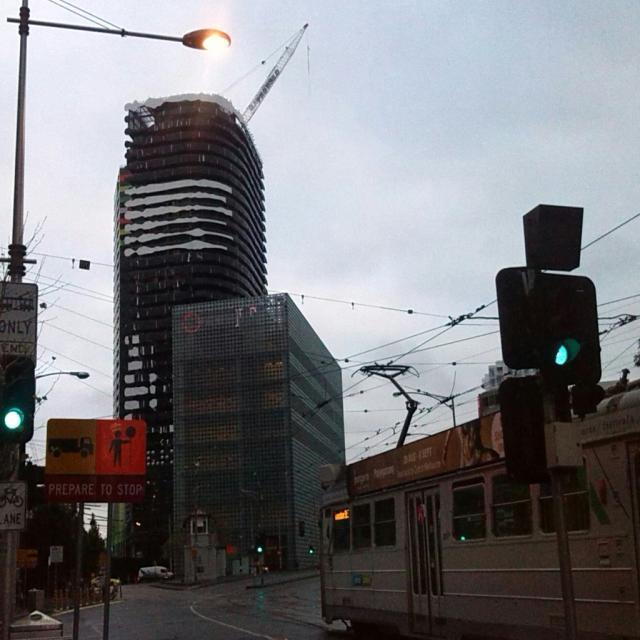traffic light: (537, 285, 582, 383), (2, 357, 33, 435)
